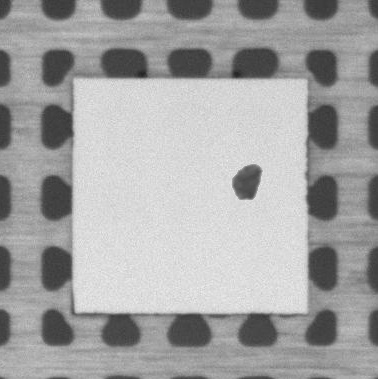DIE_INK: (228, 161, 263, 203)
